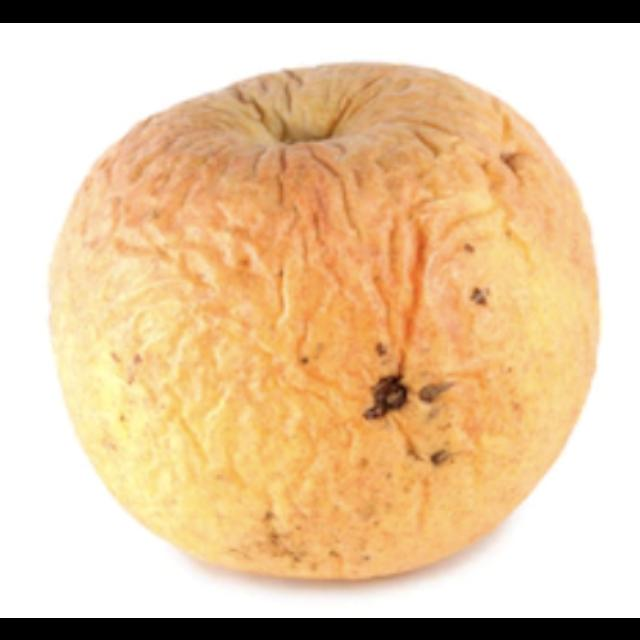Apel Tidak Segar: (56, 55, 607, 589)
